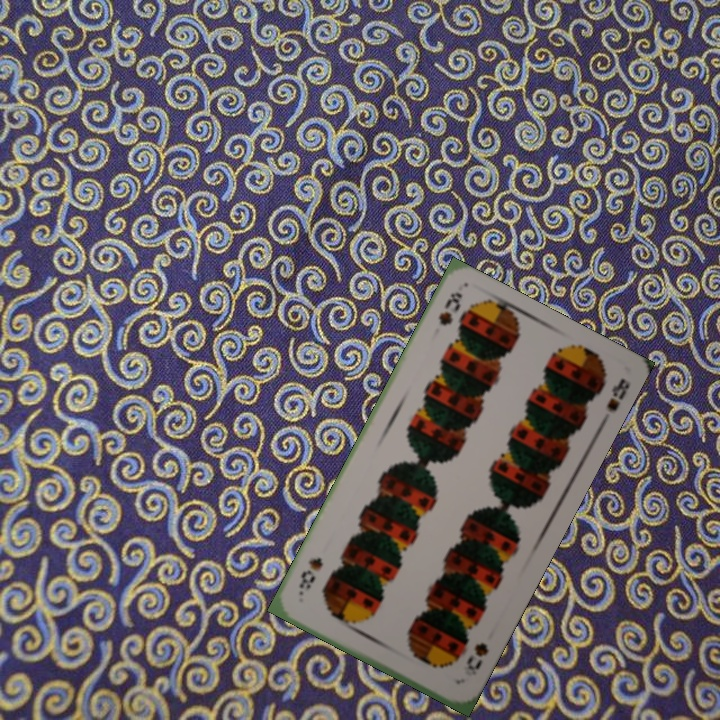S8: (459, 638, 492, 679), (434, 288, 465, 329)
